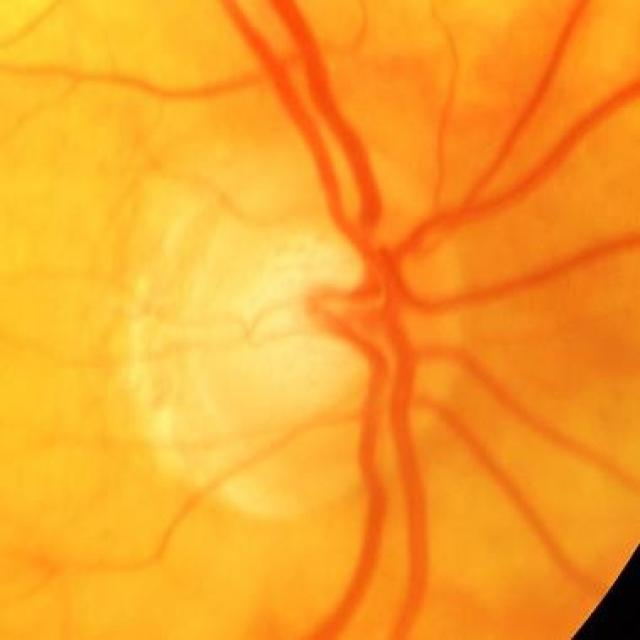OC: (234, 232, 412, 420)
OD: (123, 139, 462, 524)
